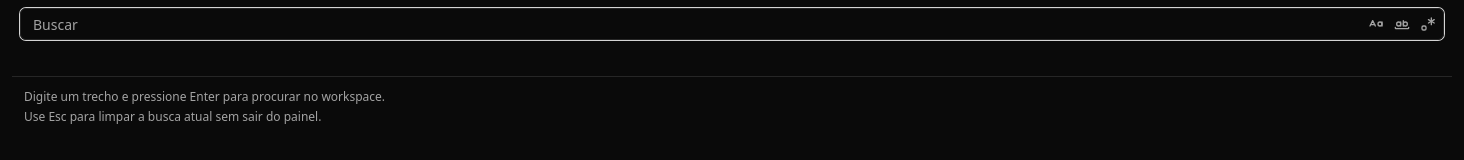
<CodeSearchPanel /> › mostra o diretório ao lado do arquivo no cabeçalho do resultado
Type "hello" into the field with placeholder "Buscar" at [732, 24], box [20,8,1444,40]
Then press Enter
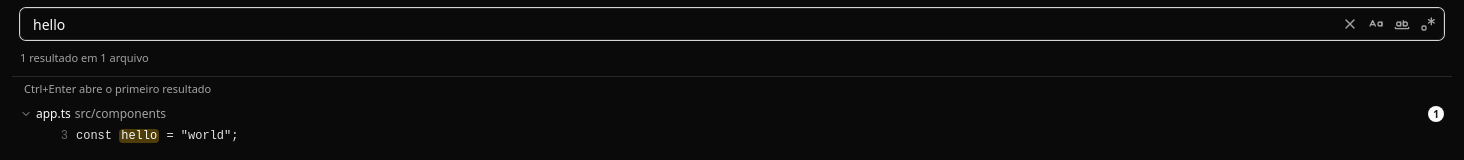
Expected: the text "app.ts" is shown, [36,106,71,122]
Expected: the text "src/components" is shown, [75,106,166,122]
